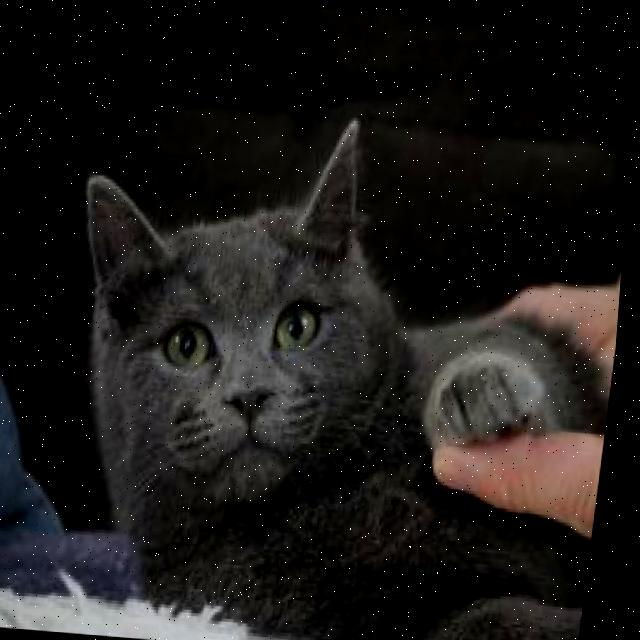Russian Blue: (34, 86, 635, 640)
